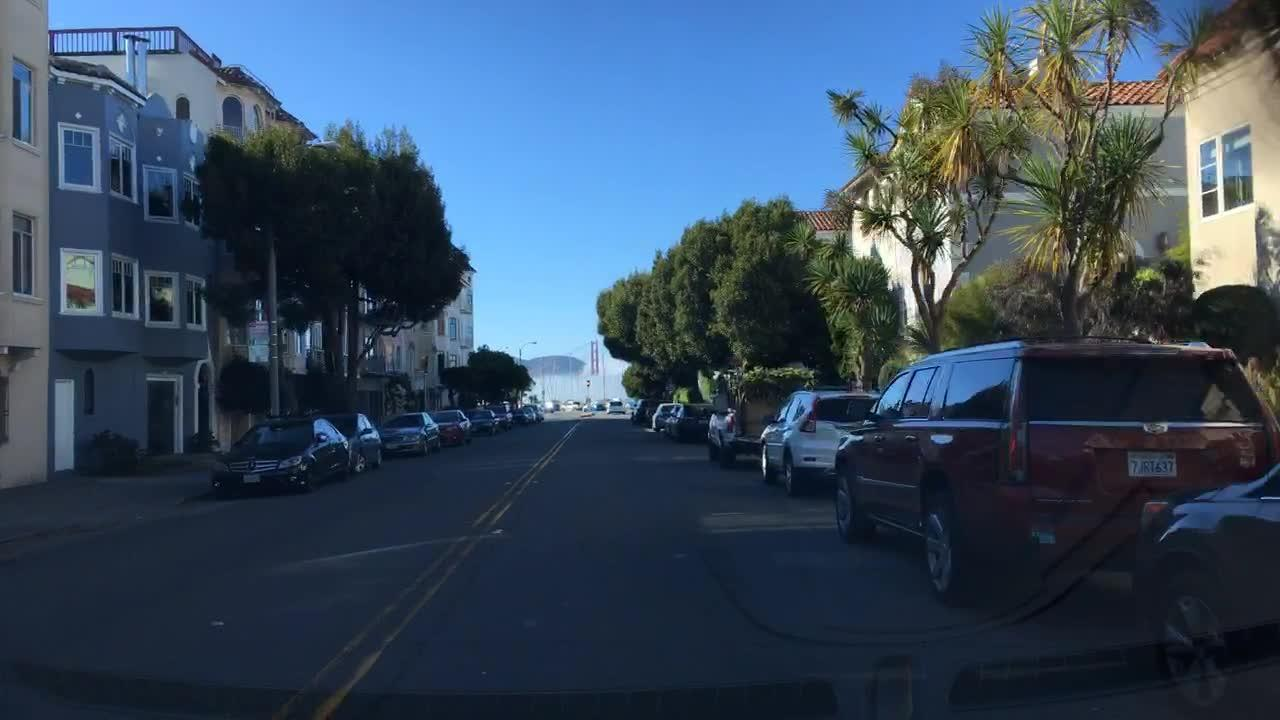Mercedes: (242, 457, 260, 473)
cadillac: (1142, 420, 1176, 441)
